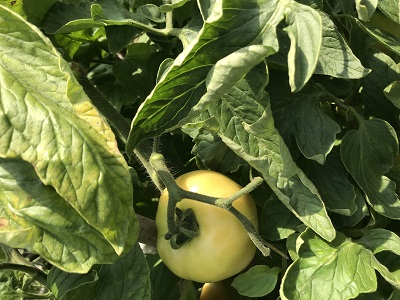immature-tomato: (156, 170, 260, 284)
